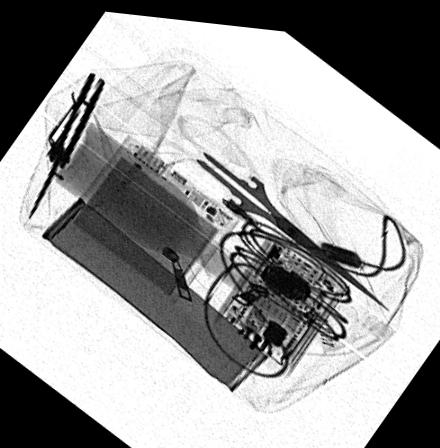Knife: (24, 65, 102, 226)
Powerbank: (59, 130, 240, 306)
Scissors: (149, 110, 394, 302)
